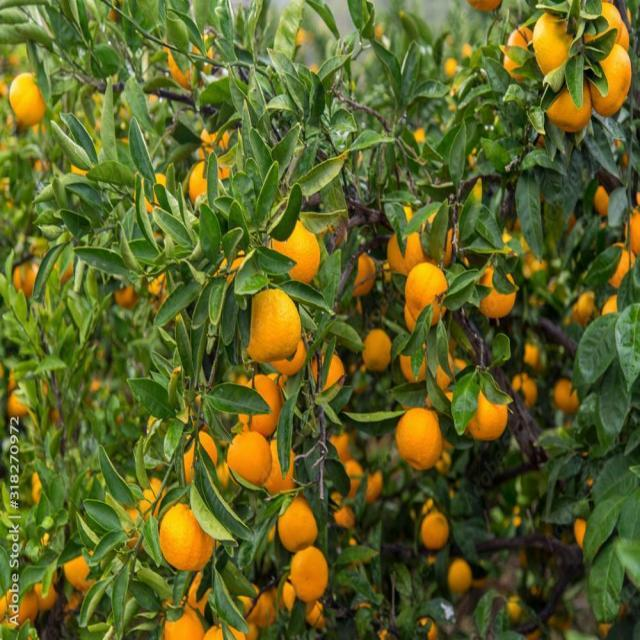Jeruk Sudah Matang: (246, 286, 302, 364), (272, 214, 320, 286), (159, 504, 214, 566), (590, 49, 634, 119), (395, 409, 443, 472), (544, 81, 596, 137), (403, 260, 448, 324), (534, 8, 574, 78), (225, 429, 274, 486), (273, 496, 320, 554), (464, 385, 509, 443), (475, 260, 517, 320), (170, 38, 212, 90), (386, 226, 428, 277), (581, 0, 622, 52), (156, 600, 201, 640), (604, 238, 638, 290), (292, 550, 328, 599), (310, 348, 346, 396), (8, 72, 42, 122), (360, 328, 393, 376), (181, 434, 216, 478), (272, 335, 308, 375), (419, 512, 452, 552), (188, 161, 218, 204), (350, 253, 378, 299), (428, 223, 458, 264), (121, 505, 148, 546), (552, 377, 580, 414), (510, 369, 536, 407), (66, 556, 95, 590), (626, 192, 640, 260), (258, 591, 280, 631), (144, 176, 168, 212), (14, 262, 39, 296), (447, 558, 472, 592), (339, 457, 362, 492), (362, 466, 385, 500), (575, 291, 598, 325), (138, 481, 162, 513), (592, 186, 616, 218), (202, 624, 248, 640), (304, 600, 328, 630), (571, 511, 589, 551), (232, 586, 253, 612), (600, 290, 620, 316), (9, 388, 28, 412)
